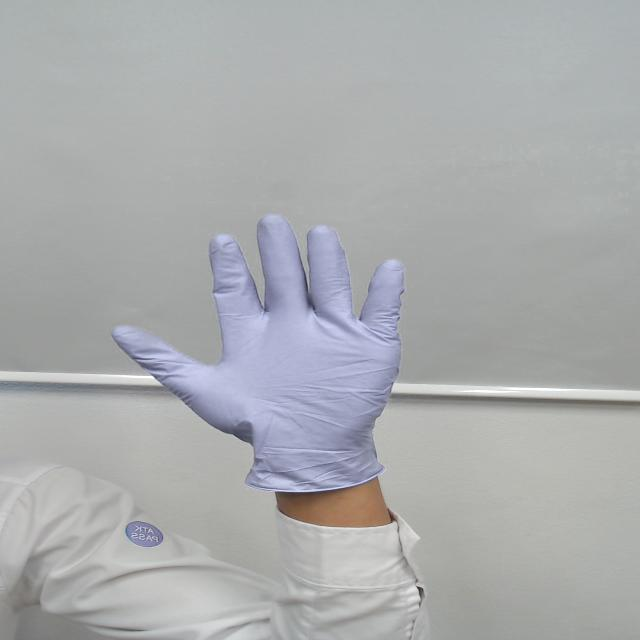glove: (101, 208, 426, 427)
